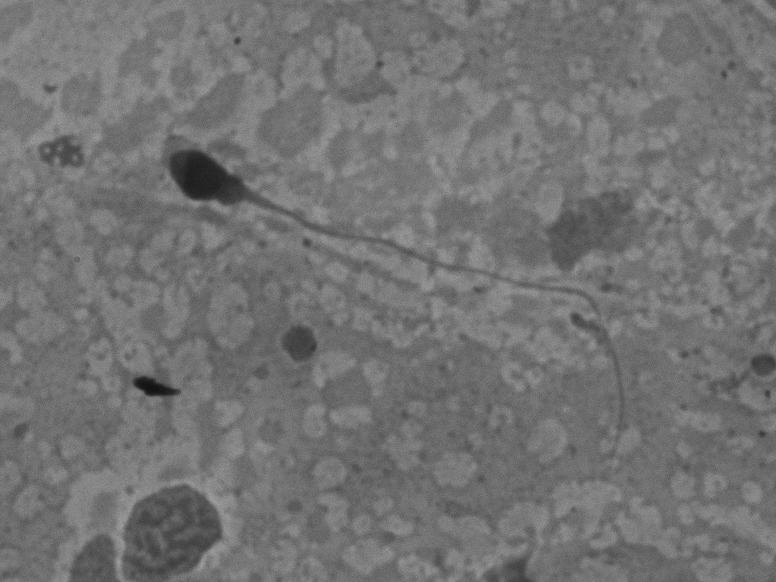Abnormal: (156, 115, 638, 390)
